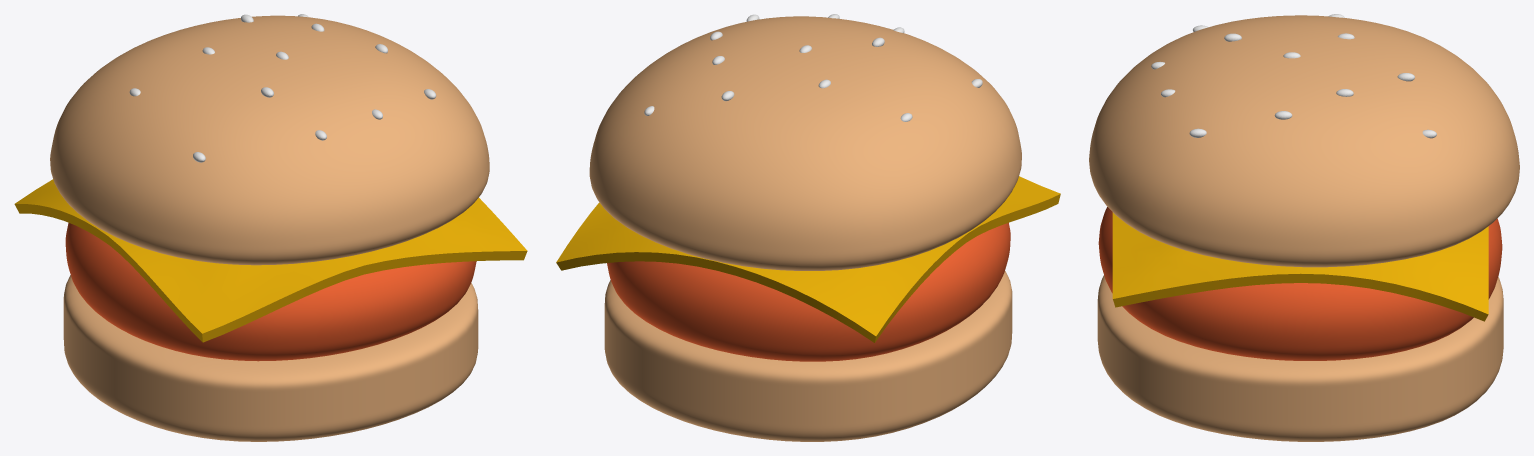
File: untitledburger.glb
3 renders of one model, left to right at view 1: azimuth 30°, elevation 25°; view 2: azimuth 150°, elevation 25°; view 3: azimuth 270°, elevation 25°, orthographic.
Parts seen in each view (by area): view 1: Cube.002, Cube, Cube.001, Plane; view 2: Cube.002, Cube, Cube.001, Plane; view 3: Cube.002, Cube, Cube.001, Plane.
Part boxes in pixels (<box>): Cube.002: <box>50,15,489,265</box>; Cube: <box>63,275,478,441</box>; Cube.001: <box>65,223,476,361</box>; Plane: <box>14,179,527,342</box>; Cube.002: <box>589,16,1021,270</box>; Cube: <box>604,271,1012,441</box>; Cube.001: <box>607,222,1010,361</box>; Plane: <box>556,176,1060,342</box>; Cube.002: <box>1089,15,1519,267</box>; Cube: <box>1097,275,1503,441</box>; Cube.001: <box>1098,207,1502,360</box>; Plane: <box>1112,212,1488,321</box>.
Size of the model in its own units: 1.95 by 1.64 by 1.95.
